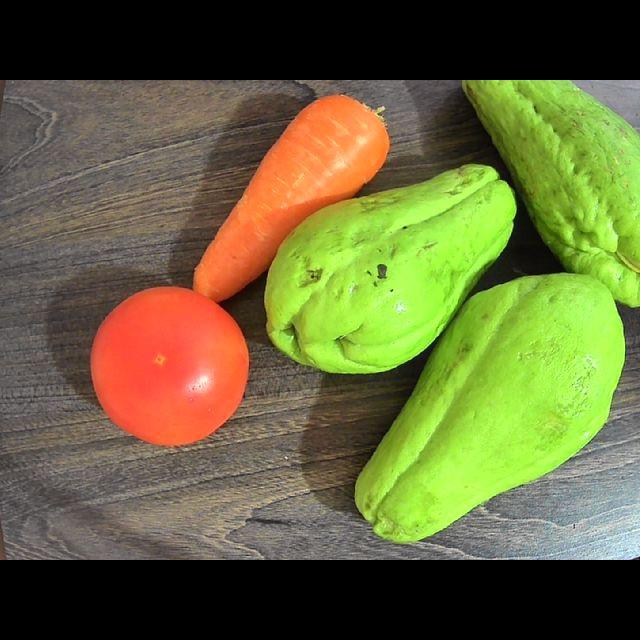chayote: (355, 273, 623, 542), (266, 164, 516, 373), (462, 80, 639, 306)
tomate: (91, 287, 248, 445)
zanahoria: (193, 95, 389, 302)
